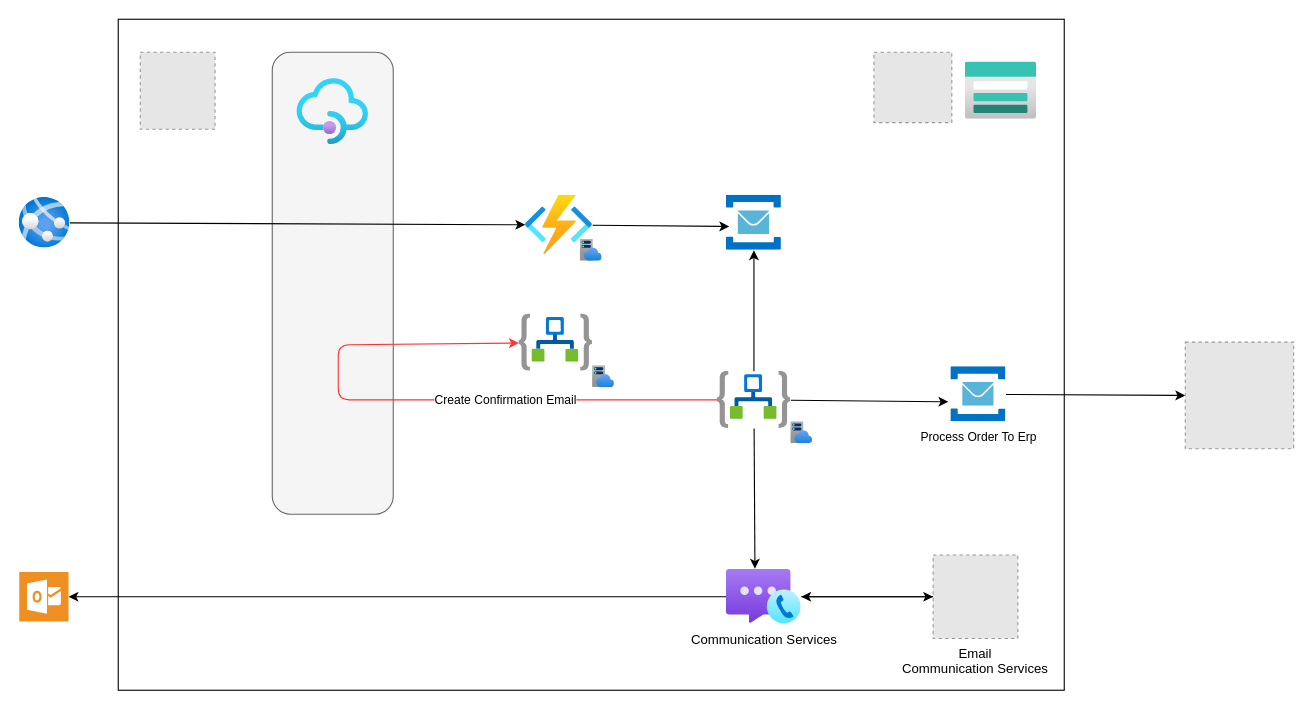
Some shapes in this 1313 by 710 pixel diagram are drawn without their labels. Grey dashed boxes stand in for pictures. Each missing label, with the centre of its shape:
"Azure API Management" belongs at pixel 332 111.
"Receive-Order" belongs at pixel 558 224.
